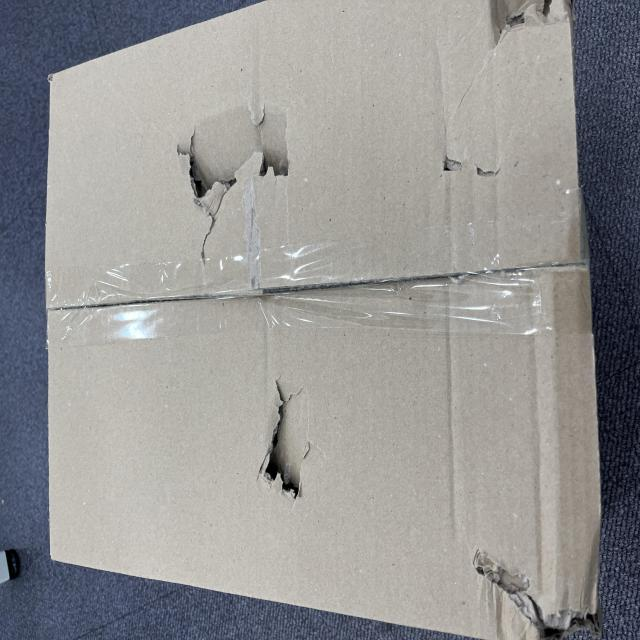damaged: (324, 240, 406, 400), (107, 336, 203, 417), (0, 626, 70, 640)
